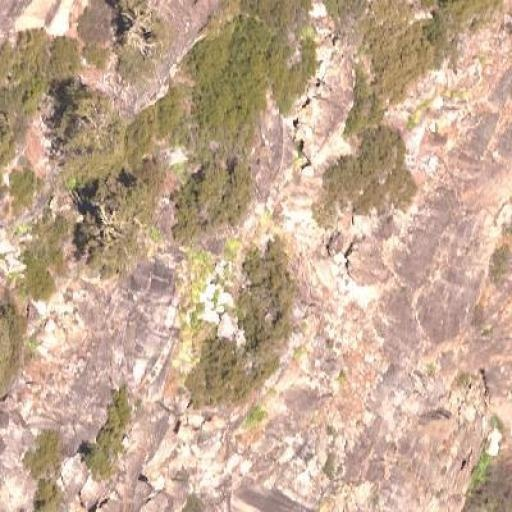tree-top: (72, 187, 151, 267), (51, 90, 128, 169), (104, 0, 178, 78)
